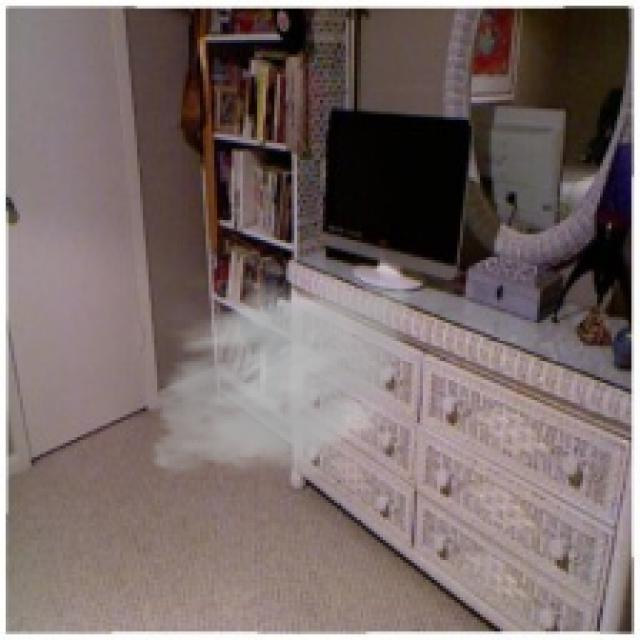smoke: (140, 266, 423, 494)
